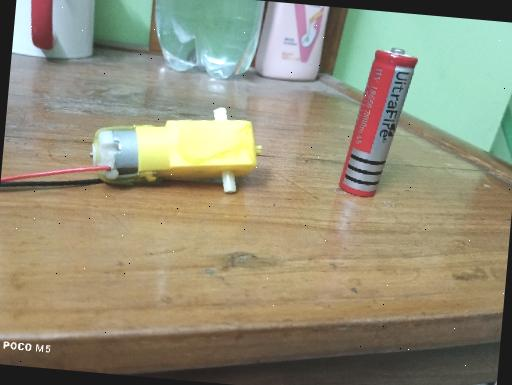Battery: (338, 42, 418, 200)
Motor: (86, 95, 266, 196)
